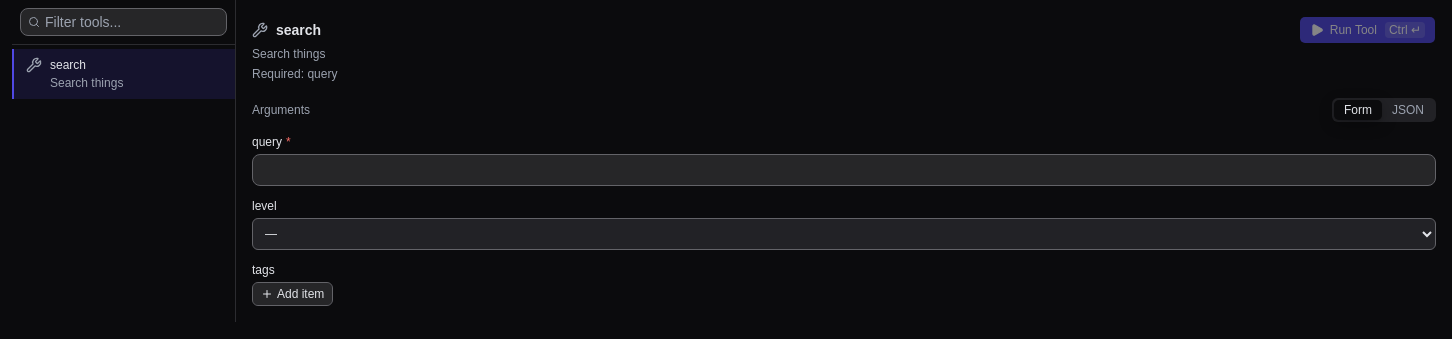
ToolPanel Run › is disabled while the JSON is invalid and sends the JSON's arguments once fixed
Later steps or results of the test are not shown.
Click the button "JSON": (1408, 110) [1382,100,1434,120]
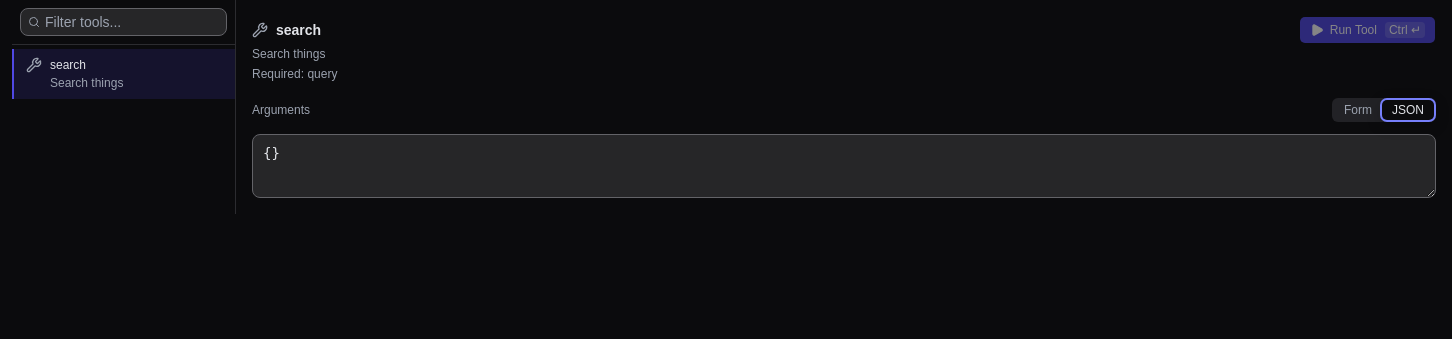
Clear the text box named "arguments json": (844, 166) [252,134,1436,198]
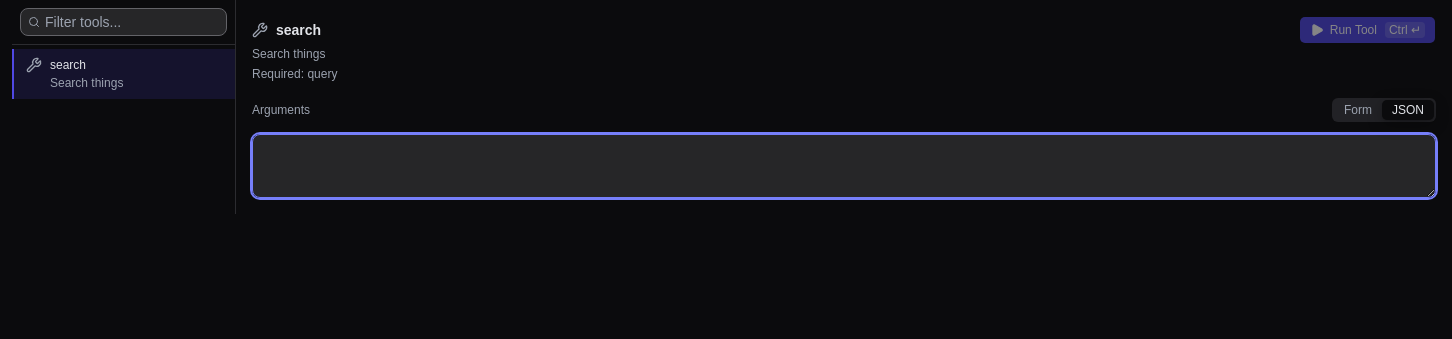
Click the text box named "arguments json": (844, 166) [252,134,1436,198]
Type keys "{\"query\": "
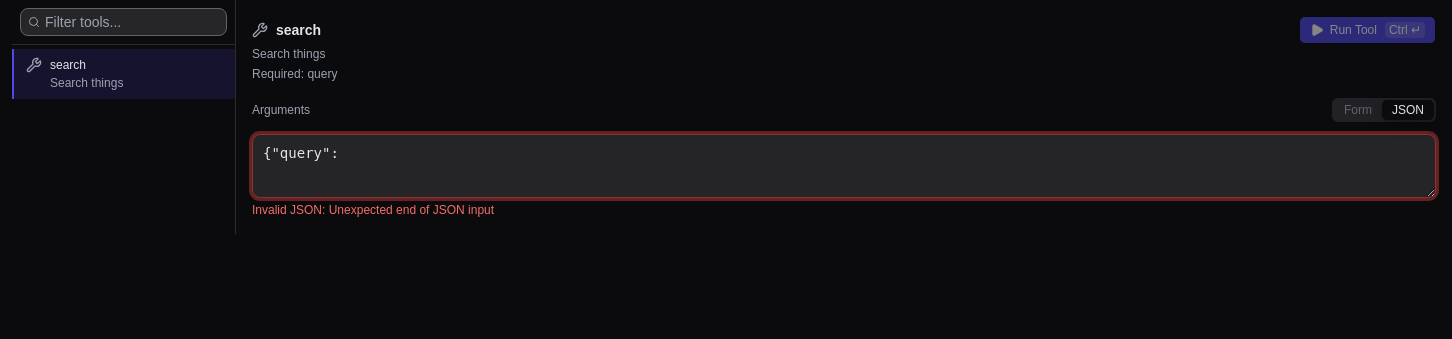
Check: the button "Run Tool Ctrl ↵" is disabled, box [1299,16,1436,44]
Check: the message shows "Invalid JSON", box [252,203,494,217]
Clear the text box named "arguments json": (844, 166) [252,134,1436,198]
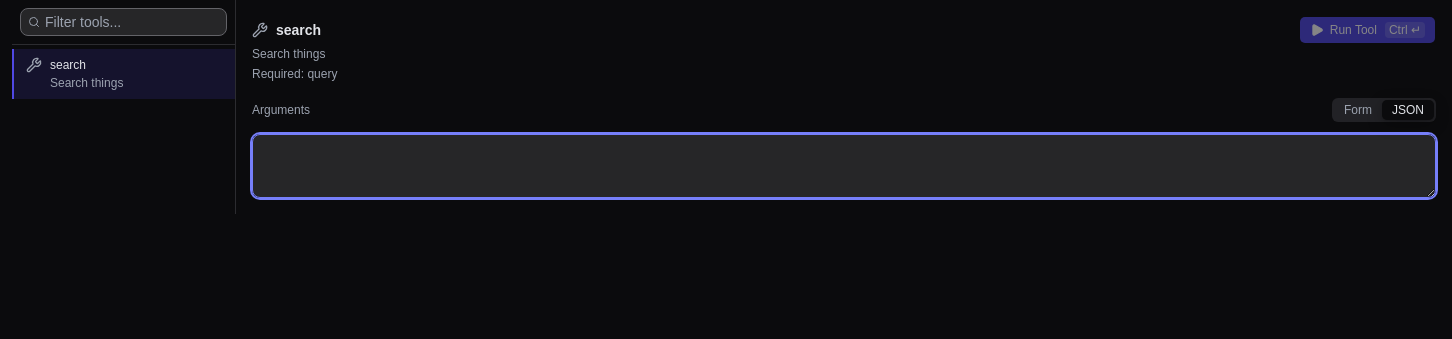
Click the text box named "arguments json": (844, 166) [252,134,1436,198]
Type keys "{\"query\":\"dogs\",\"level\":\"debug\"}"
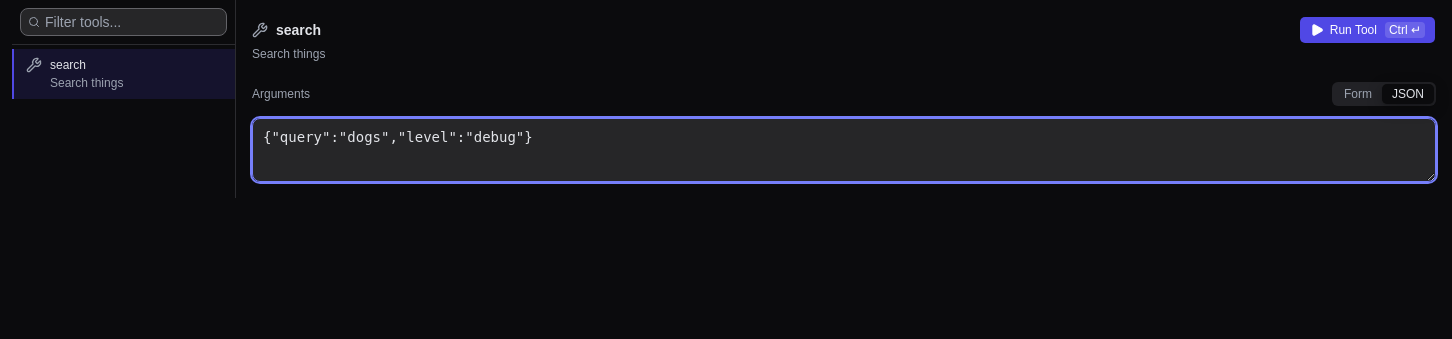
Check: the button "Run Tool Ctrl ↵" is enabled, box [1299,16,1436,44]
